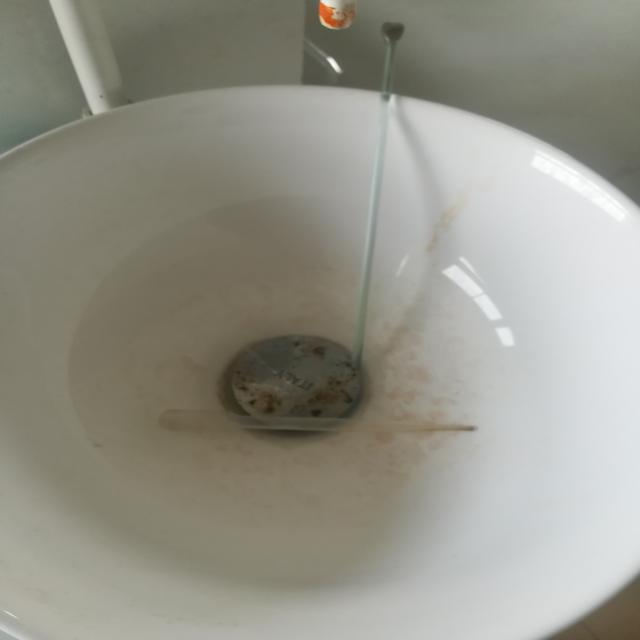Glass_Rod: (329, 5, 425, 388)
Pipette: (120, 404, 495, 449)
